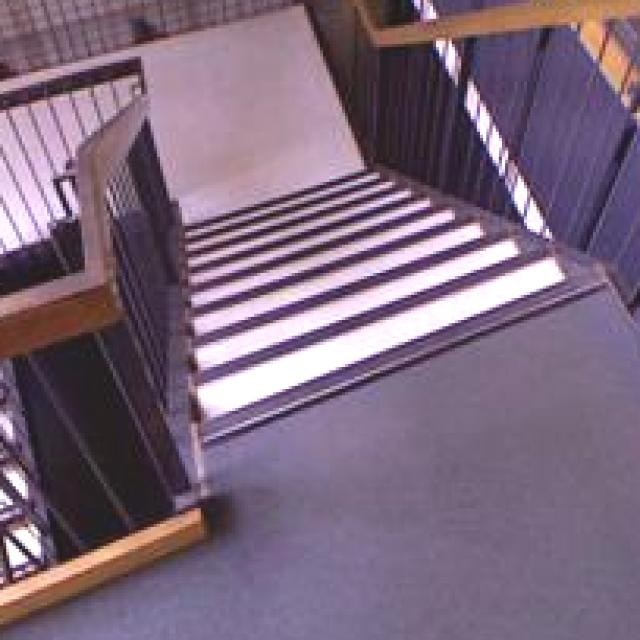downstair: (174, 262, 600, 450)
